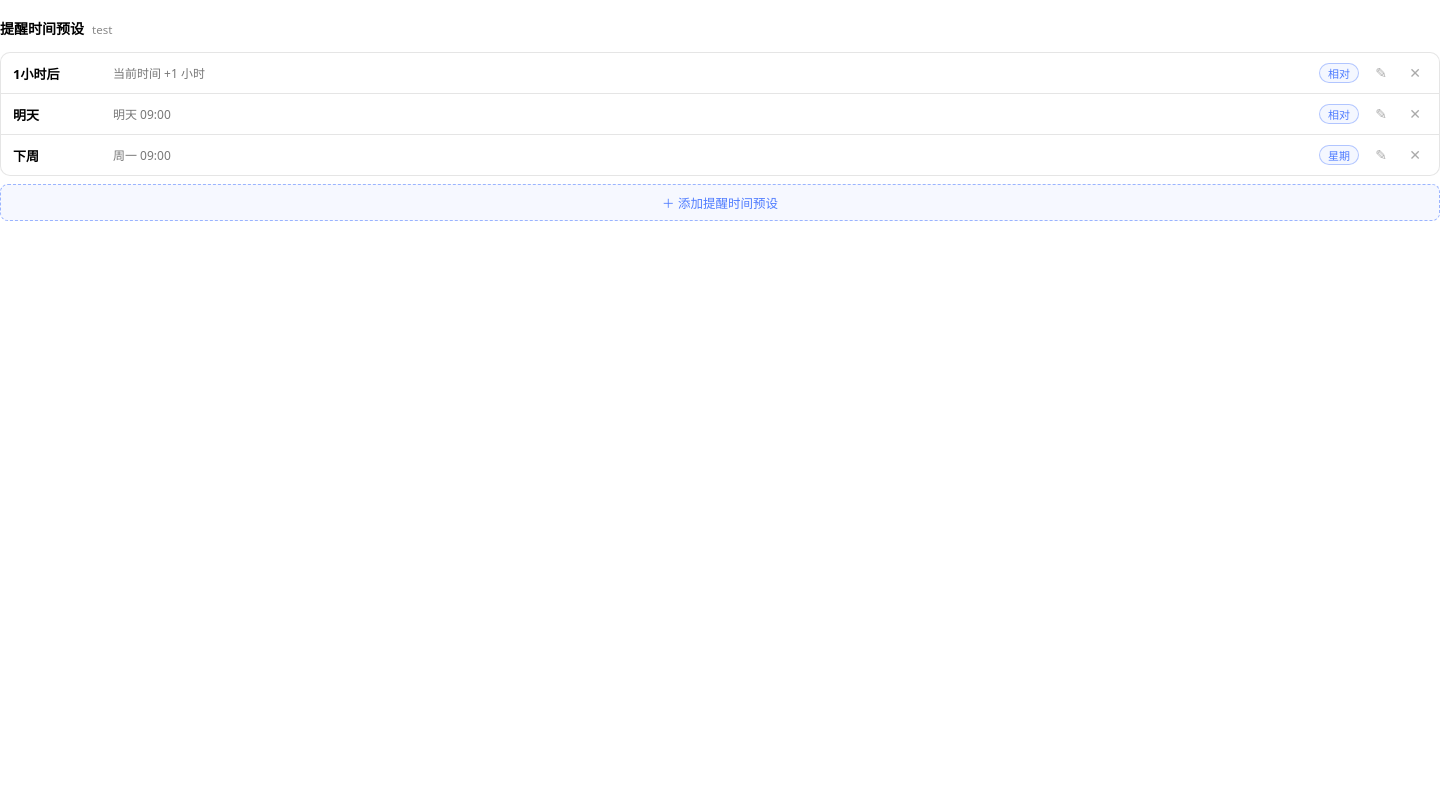
Test: TodoPresetsManager 添加/编辑 › 规则不完整时保存按钮禁用
Click the button with class "add-btn": (720, 202) x1=0 y1=184 x2=1439 y2=221
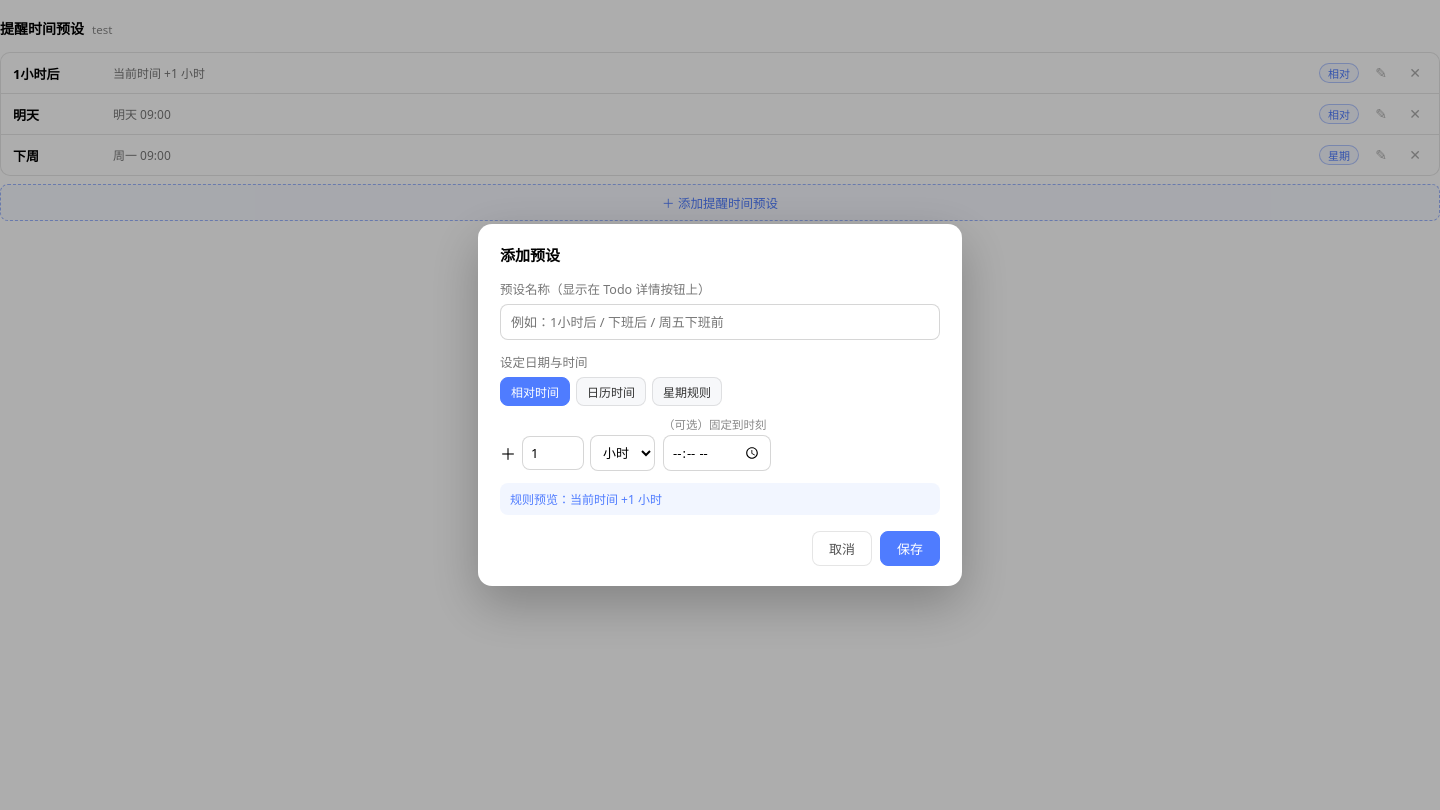
Check: the button with class "btn-save" is enabled, box x1=880 y1=531 x2=940 y2=566
# 切到日历但不填日期 → 禁用
Click the button "日历时间": (611, 392) x1=576 y1=377 x2=646 y2=406
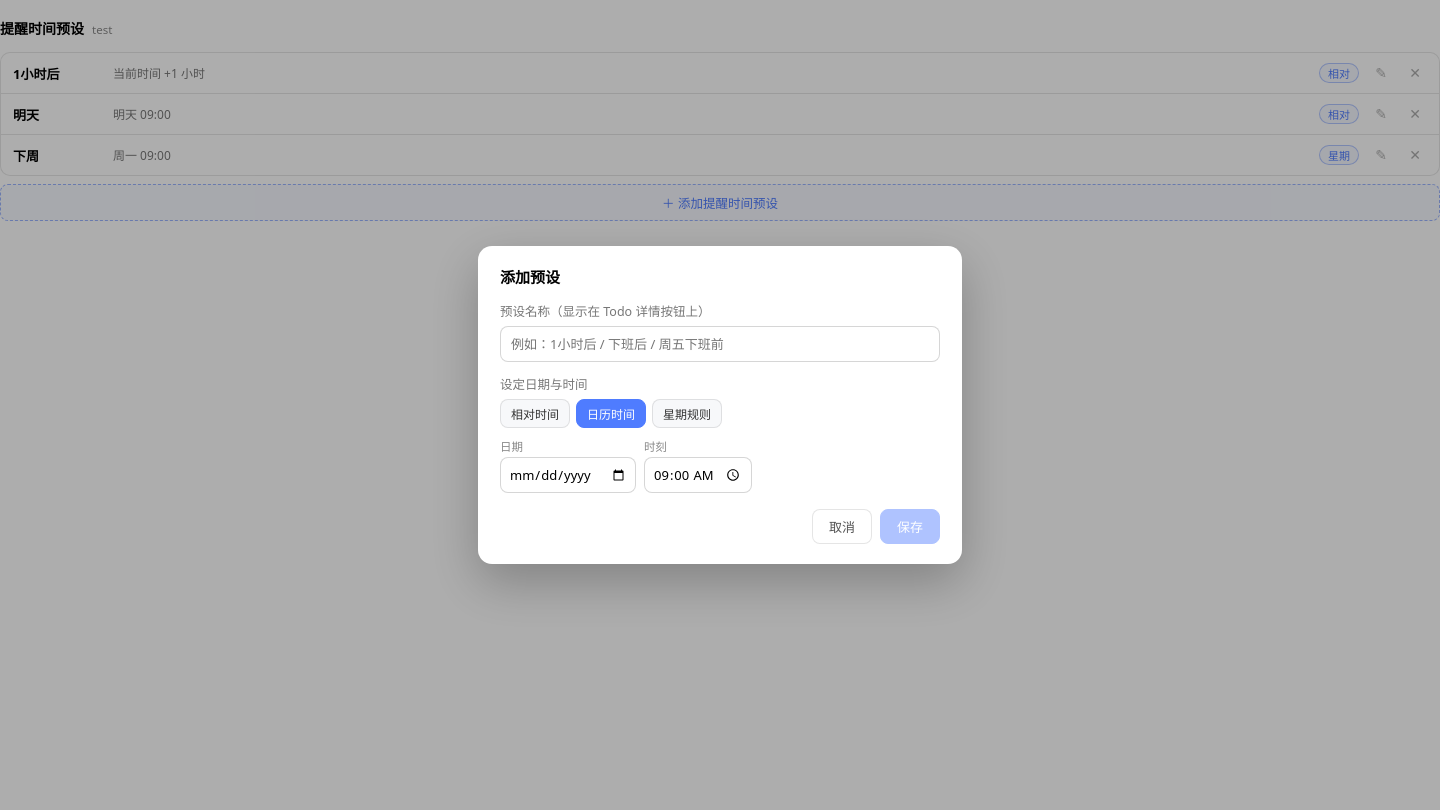
Check: the button with class "btn-save" is disabled, box x1=880 y1=509 x2=940 y2=544
